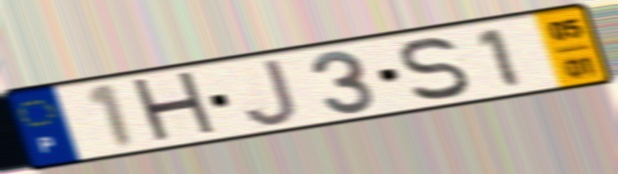1: (85, 80, 137, 153), (474, 26, 527, 89)
3: (309, 48, 378, 117)
H: (126, 68, 224, 148)
J: (242, 56, 301, 128)
S: (397, 34, 474, 103)
